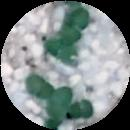Basil: (63, 9, 90, 43), (45, 40, 75, 62), (51, 88, 74, 115), (22, 75, 47, 96), (71, 99, 93, 116)
